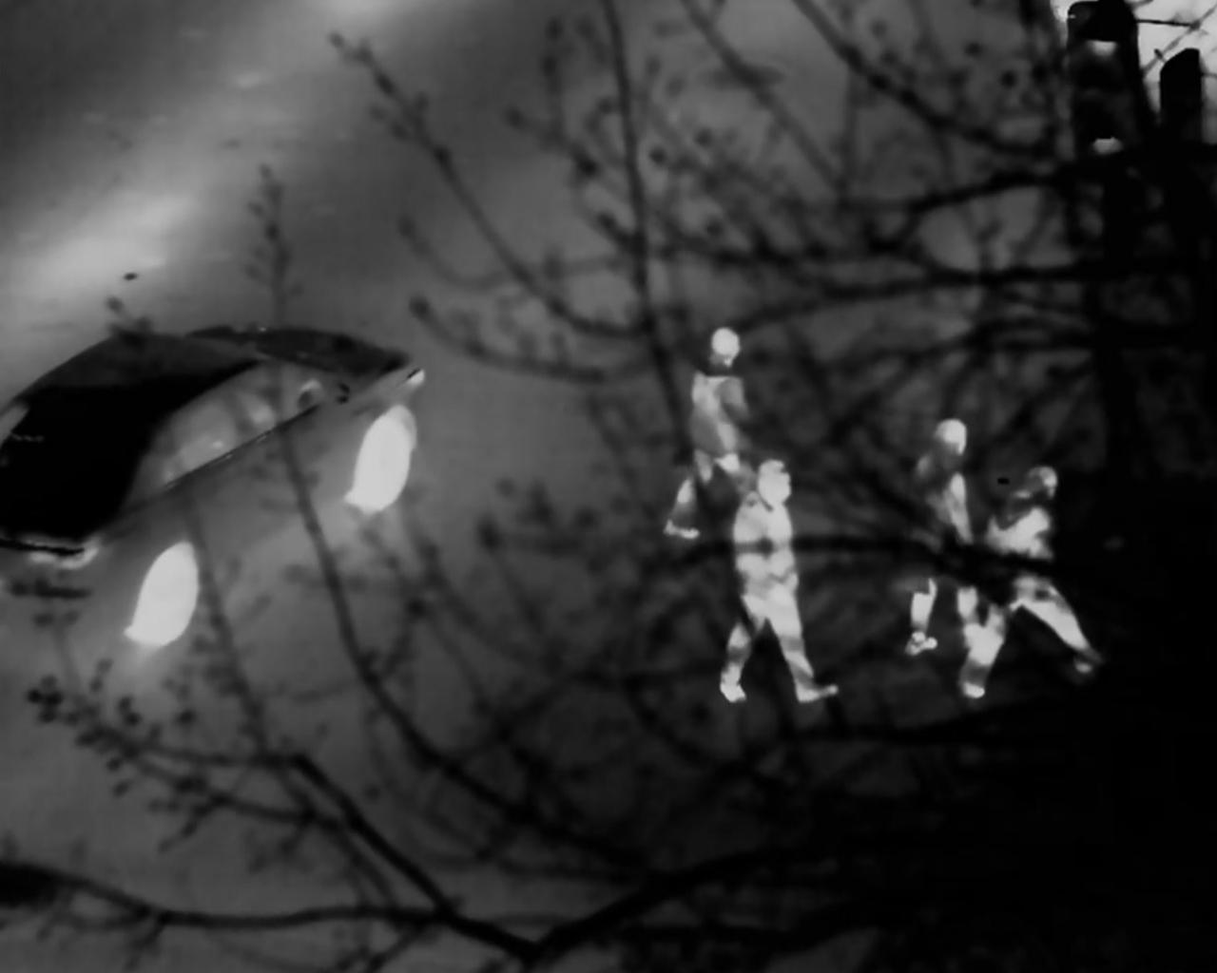person: (972, 456, 1091, 702), (725, 465, 822, 696), (658, 325, 762, 536), (917, 415, 984, 663)
